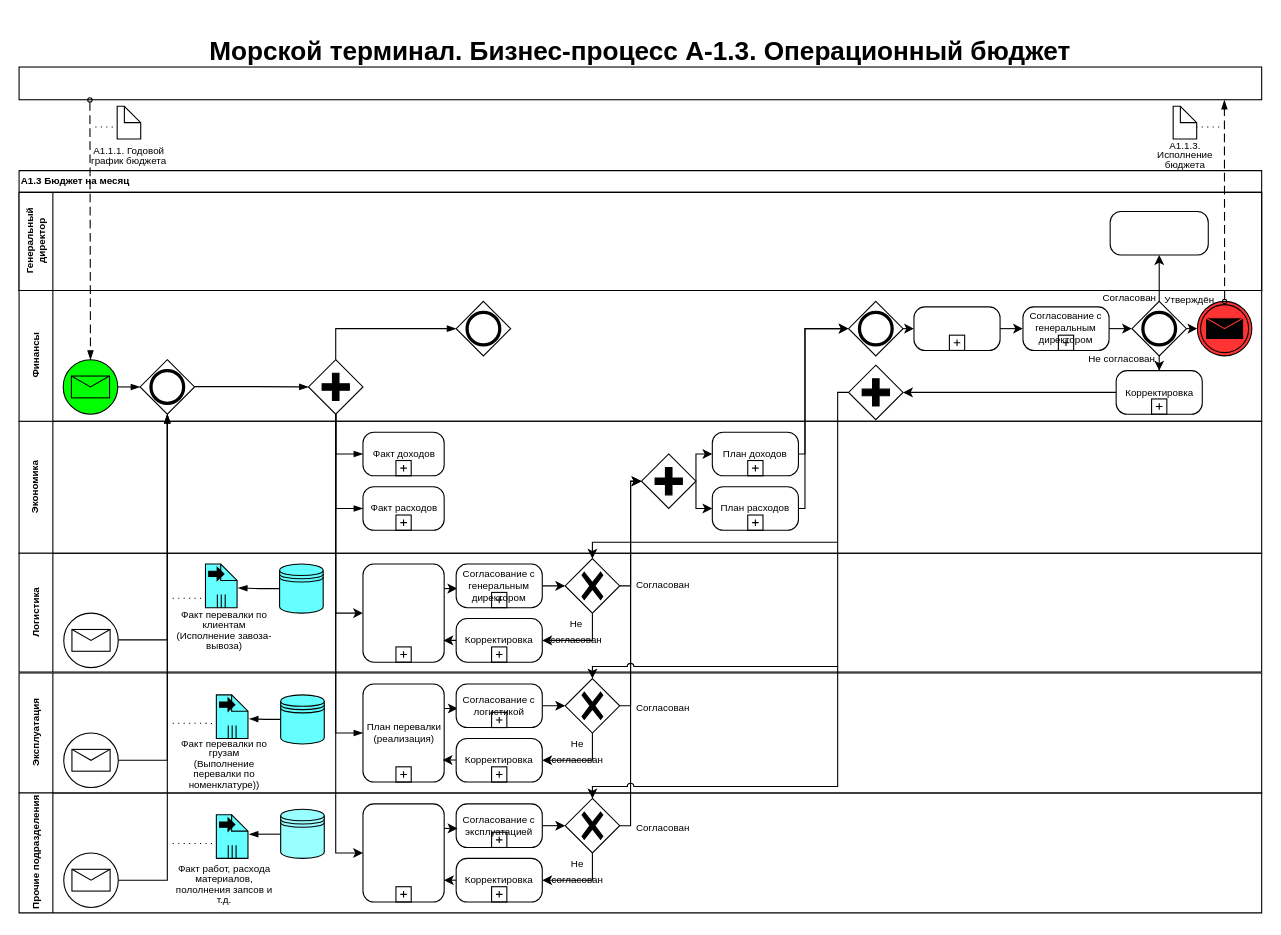
The diagram is 1281 pixels wide and 935 high, and some of its shapes have lost their labels. The shapes that lost their labels are listed below. From the top down, each one's centre as x and y in pixels, then its label:
At (640,83): "A.1. Планирование".
At (1158,232): "Утверждение".
At (956,328): "Сводный бюджет".
At (403,612): "План завоза/вывоза (исполнение контрактов".
At (403,852): "Планы ремонтов Планы строительства Планы выхода персонала и т.д.".
